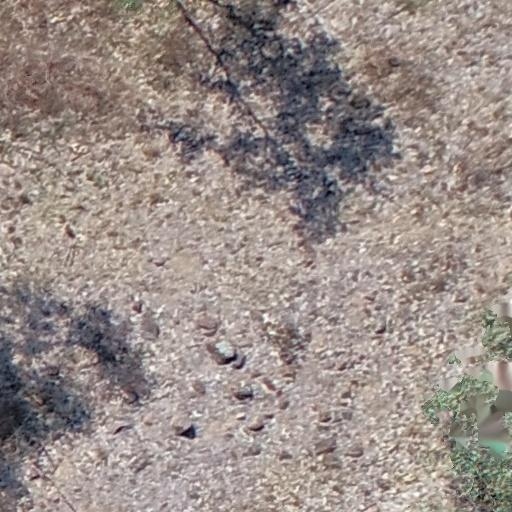stone: (208, 342, 234, 365), (195, 313, 216, 332), (131, 456, 152, 474), (141, 410, 161, 428), (316, 438, 338, 454), (144, 319, 161, 339), (244, 416, 264, 432), (376, 477, 394, 492), (232, 388, 256, 399), (177, 420, 193, 436), (242, 443, 259, 458), (190, 378, 205, 394), (345, 442, 361, 456), (317, 409, 333, 423), (373, 319, 387, 335), (186, 486, 202, 500), (277, 396, 291, 412), (338, 408, 354, 422), (131, 299, 146, 313), (334, 359, 350, 372), (64, 224, 77, 240), (339, 387, 353, 401), (46, 362, 60, 376), (123, 389, 136, 404), (152, 256, 168, 268), (453, 291, 469, 303), (235, 352, 246, 369), (387, 56, 402, 68), (111, 423, 126, 435), (277, 450, 293, 461), (330, 483, 344, 495), (29, 466, 40, 481), (233, 411, 246, 419)
